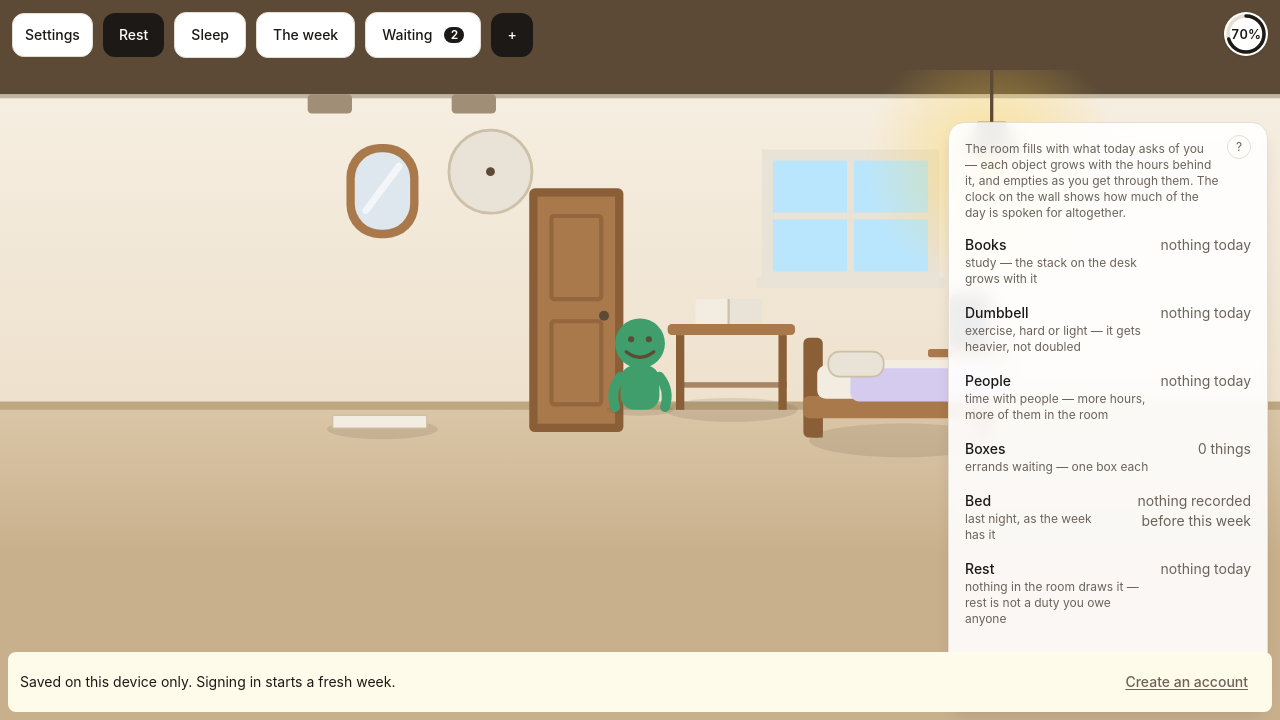
Test case: RoomShell when a student has been at the bottom for days › stops offering to reschedule and says something else
Click the button with test id "open-notices": click(423, 35) left=365, top=12, right=481, bottom=58
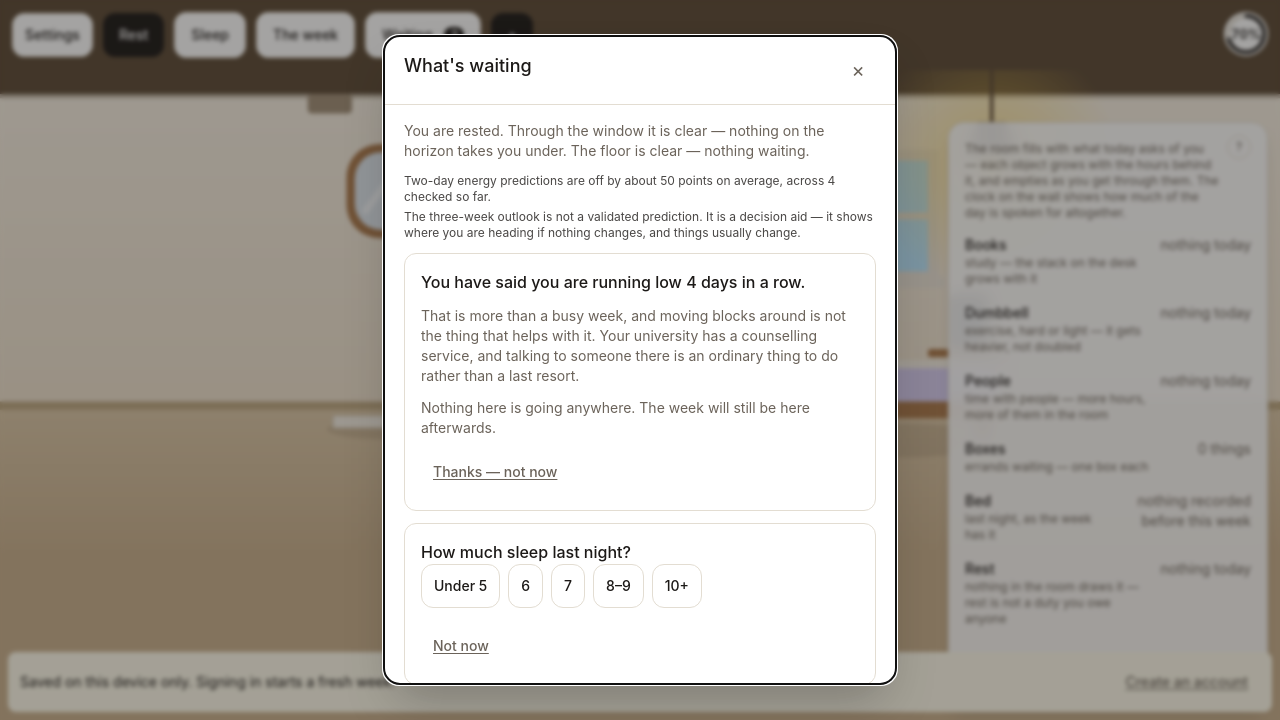
Expected: the element named "a note about how you have been" is shown, left=404, top=253, right=876, bottom=511
